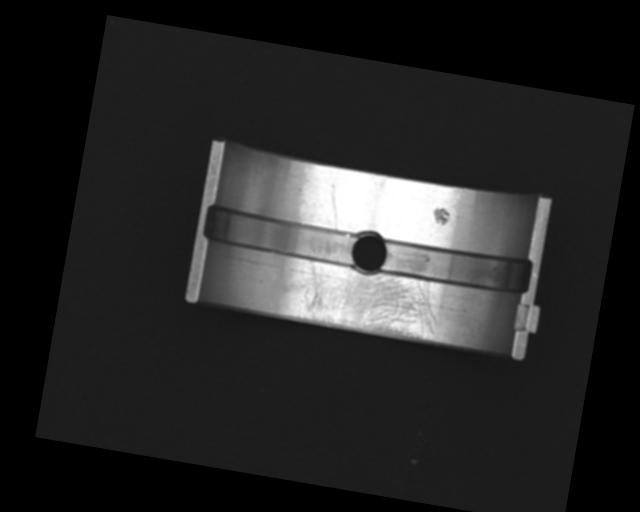bruise: (431, 205, 452, 227)
gap: (202, 205, 359, 267), (378, 237, 533, 297)
hole: (347, 229, 391, 276)
nick: (325, 183, 346, 230)
scratch: (283, 257, 444, 343)
